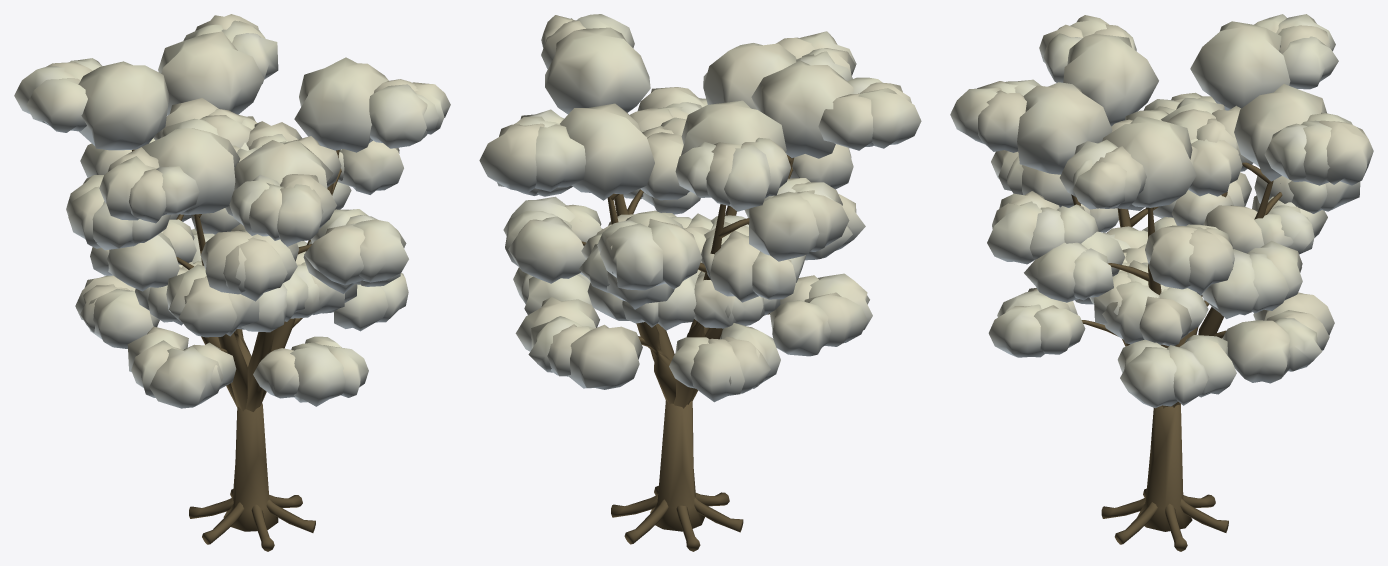
The picture shows the model from 3 angles, left to right: view 1: azimuth 30°, elevation 25°; view 2: azimuth 150°, elevation 25°; view 3: azimuth 270°, elevation 25°; orthographic projection. The views are drawn at different scales.
Parts seen in each view (by area): view 1: crown, trunk; view 2: crown, trunk; view 3: crown, trunk.
Part boxes in pixels (x1=…): crown: x1=14, y1=14, x2=450, y2=408; trunk: x1=132, y1=149, x2=341, y2=551; crown: x1=479, y1=14, x2=921, y2=402; trunk: x1=581, y1=154, x2=793, y2=551; crown: x1=950, y1=14, x2=1373, y2=408; trunk: x1=1071, y1=162, x2=1282, y2=551.
Size of the model in its own units: 11.03 by 13.53 by 11.42.
